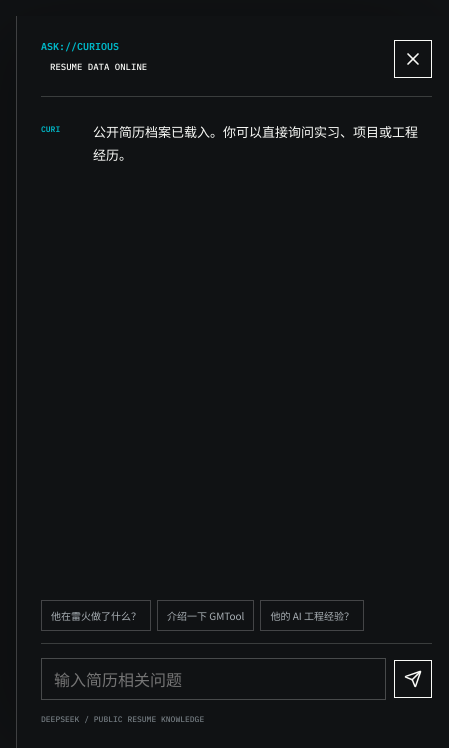
Test: ChatTerminal › submits free-form history and appends deltas to one assistant message
Type "介绍 GMTool" into the field with id "chat-question". click: (214, 679)
box: x1=41 y1=658 x2=386 y2=700
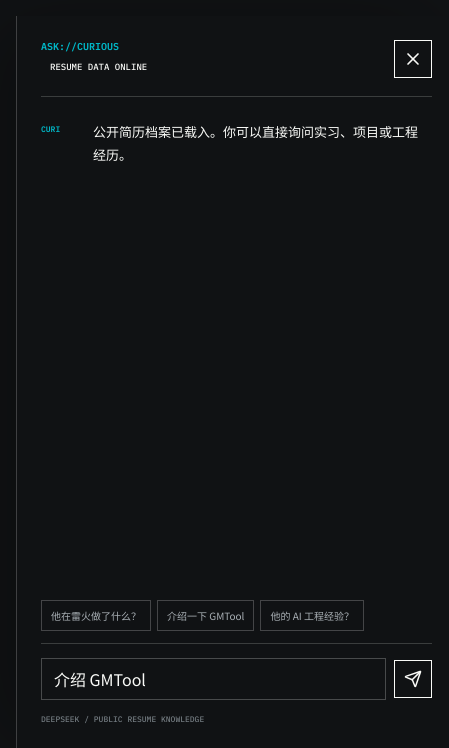
Submit the form, box x1=41 y1=643 x2=432 y2=700
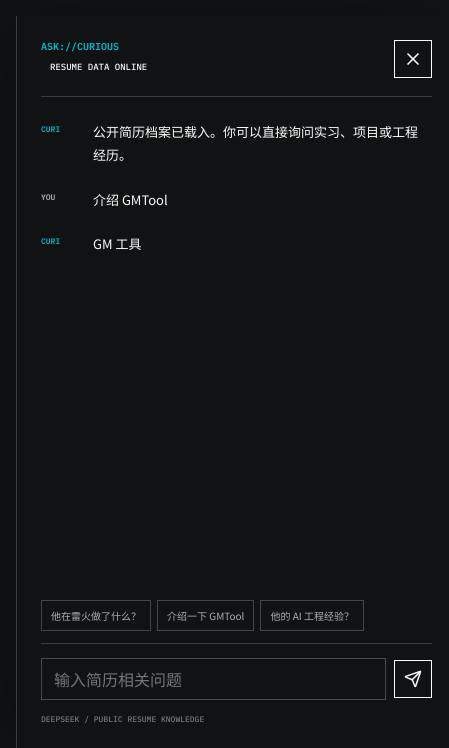
Check: the text "介绍 GMTool" is shown, box x1=93 y1=190 x2=168 y2=208
Check: the text "GM 工具" is shown, box x1=93 y1=234 x2=141 y2=253
